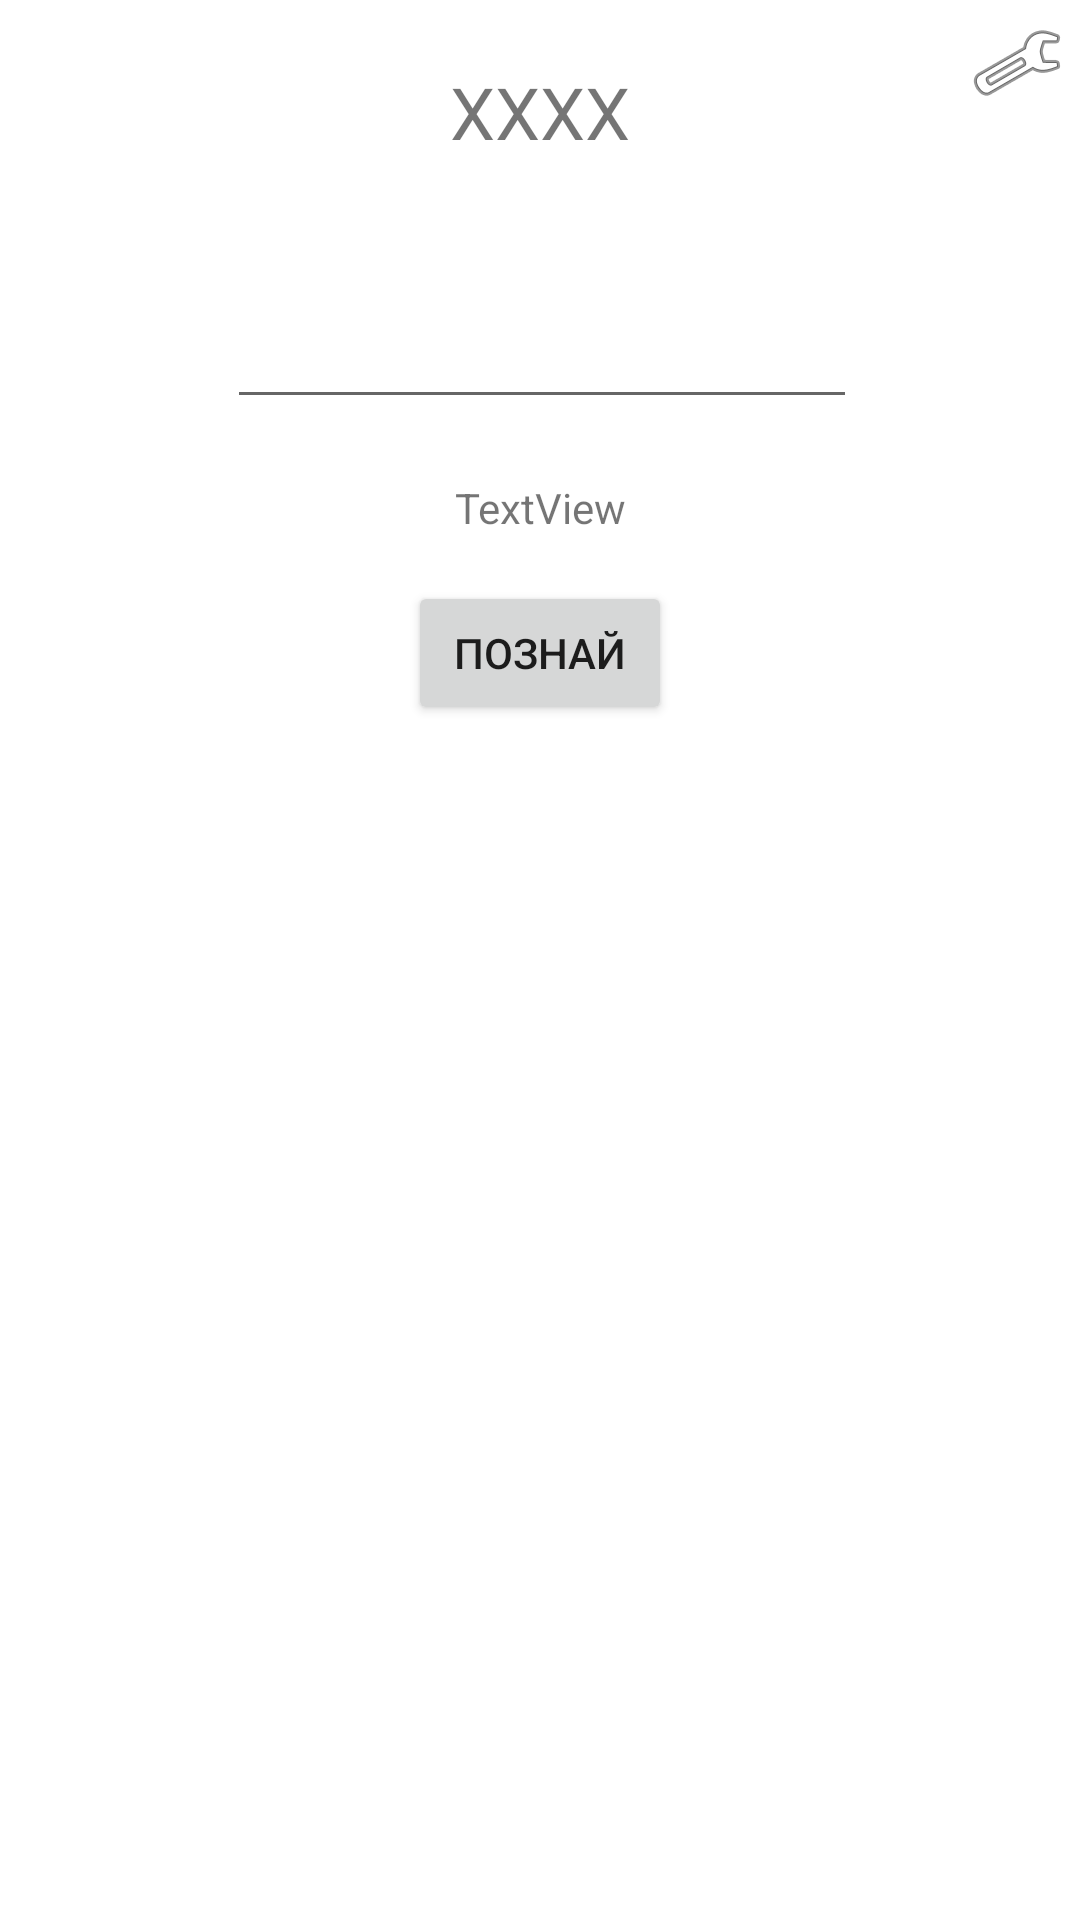

Icon click points for this 1080x1920 phone screenshot, format (x,y):
manage: (1017,63)
